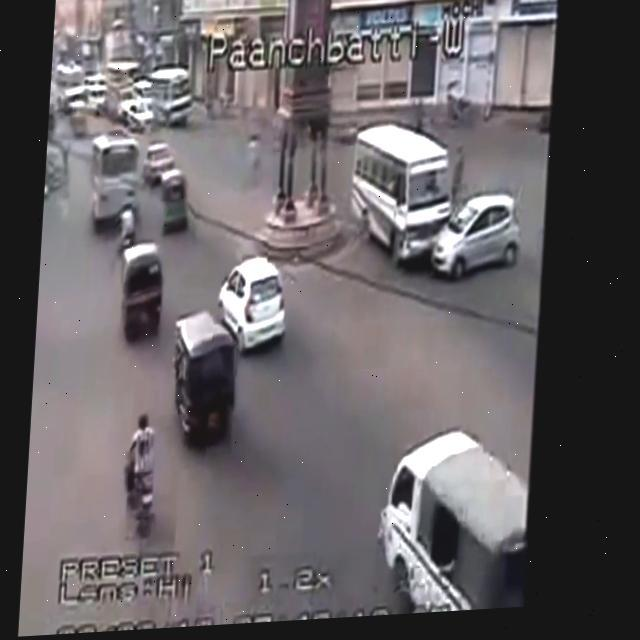multiple_accident: (340, 88, 575, 323)
normal: (75, 188, 280, 440), (378, 370, 545, 630), (105, 415, 193, 547)
